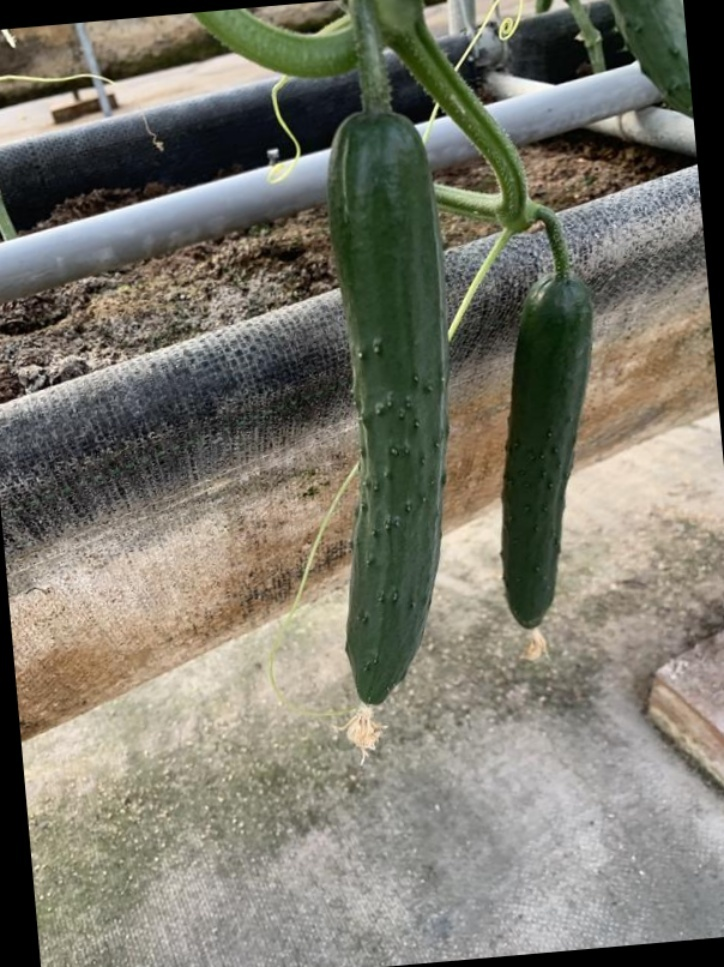mature: (317, 101, 452, 712), (492, 268, 606, 644)
